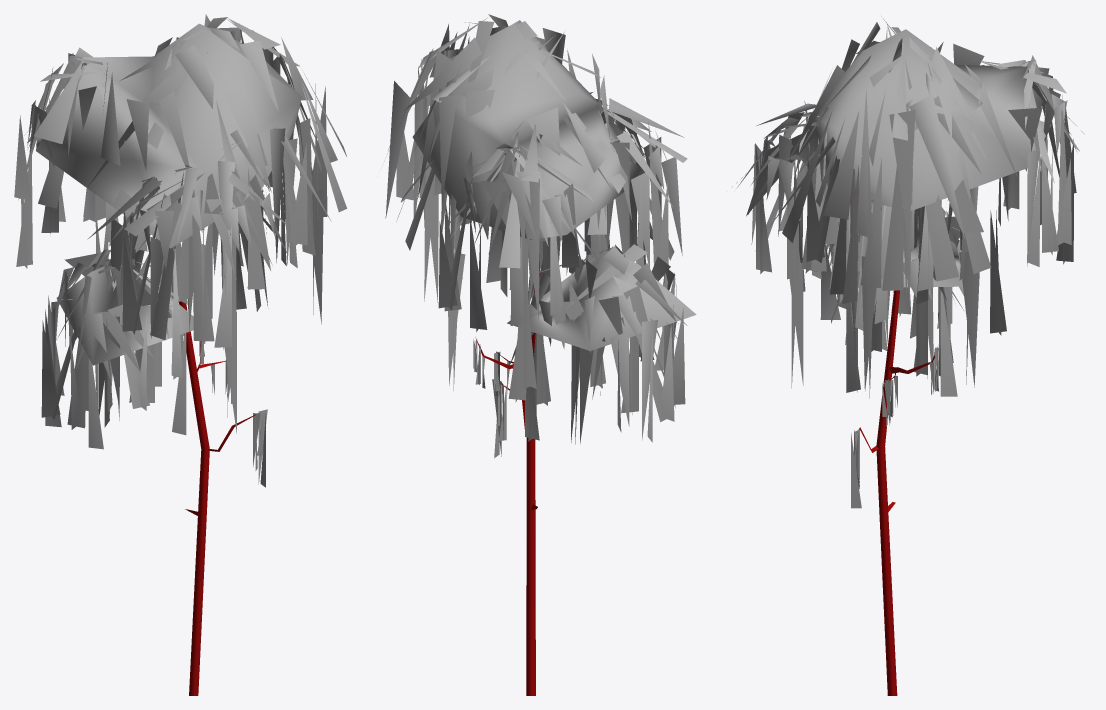
The model's file is env_forest_birch03_lod2.fbx.
The picture shows the model from 3 angles, left to right: view 1: azimuth 30°, elevation 25°; view 2: azimuth 150°, elevation 25°; view 3: azimuth 270°, elevation 25°; orthographic projection.
Visible parts, largest first — view 1: env_forest_birch03_lod2__submesh0; view 2: env_forest_birch03_lod2__submesh0; view 3: env_forest_birch03_lod2__submesh0.
Part boxes in pixels (<box>): env_forest_birch03_lod2__submesh0: <box>14,14,346,695</box>; env_forest_birch03_lod2__submesh0: <box>384,14,696,695</box>; env_forest_birch03_lod2__submesh0: <box>732,16,1084,695</box>.
Bounding box in the file's own units: 70.77 × 160 × 78.97.
